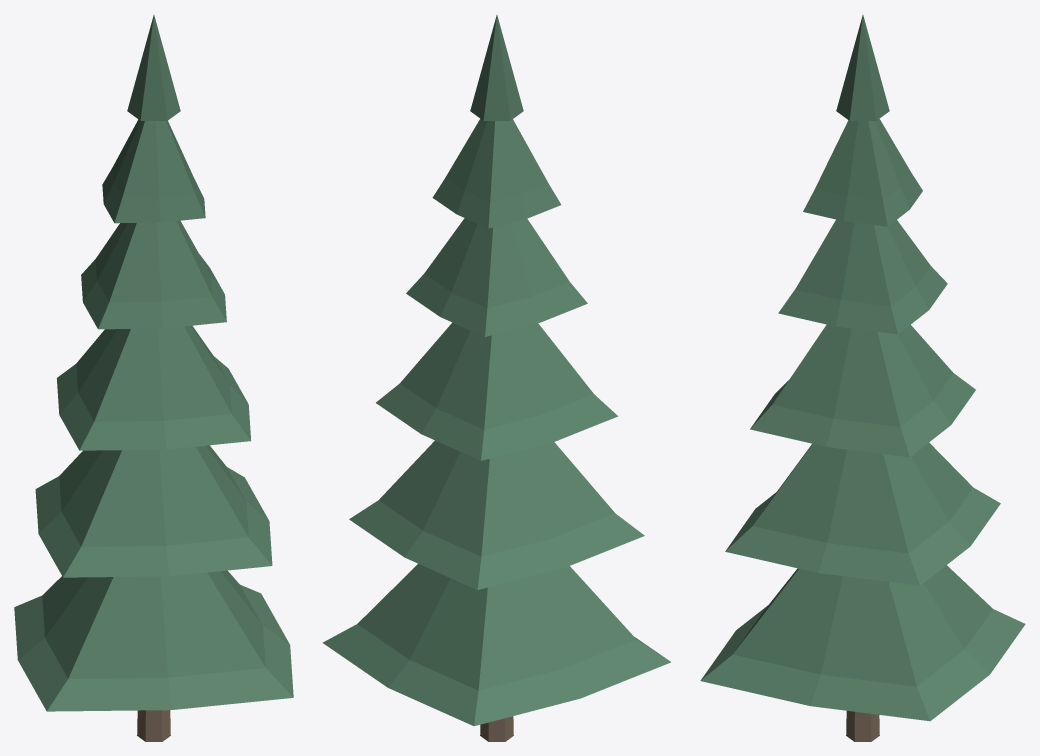
Rendered from tree_spruce.glb.
The picture shows the model from 3 angles, left to right: view 1: azimuth 30°, elevation 25°; view 2: azimuth 150°, elevation 25°; view 3: azimuth 270°, elevation 25°; orthographic projection.
Visible parts, largest first — view 1: needles, tree_spruce; view 2: needles, tree_spruce; view 3: needles, tree_spruce.
Part boxes in pixels (x1=…): needles: x1=14, y1=15, x2=293, y2=711; tree_spruce: x1=137, y1=710, x2=170, y2=741; needles: x1=322, y1=15, x2=670, y2=726; tree_spruce: x1=480, y1=716, x2=513, y2=741; needles: x1=700, y1=15, x2=1025, y2=721; tree_spruce: x1=846, y1=711, x2=879, y2=741.
Bounding box in the file's own units: 4.25 × 10.4 × 4.25.
